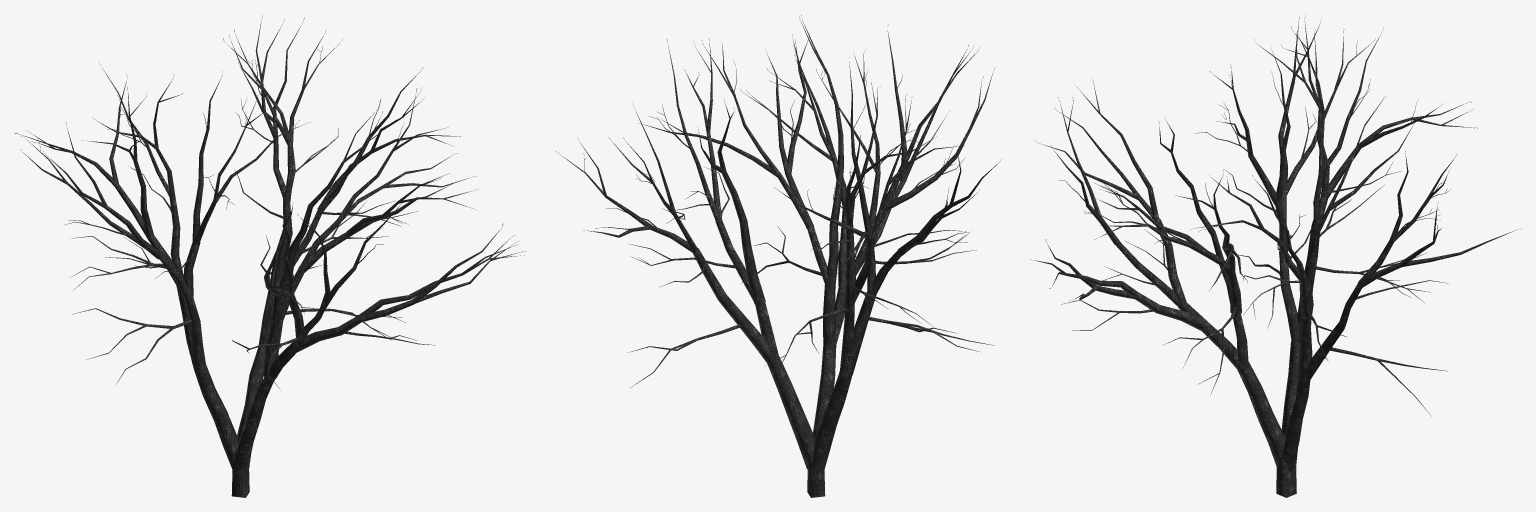
The model's file is 3DTREE01.obj.
The picture shows the model from 3 angles, left to right: view 1: azimuth 30°, elevation 25°; view 2: azimuth 150°, elevation 25°; view 3: azimuth 270°, elevation 25°; orthographic projection.
Visible parts, largest first — view 1: tree; view 2: tree; view 3: tree.
Boxes of the visible parts, x1,y1,x2,y2 form: tree: (15, 15, 525, 497); tree: (556, 15, 1001, 497); tree: (1031, 14, 1521, 497).
Size of the model in its own units: 6.79 by 7.22 by 7.38.
